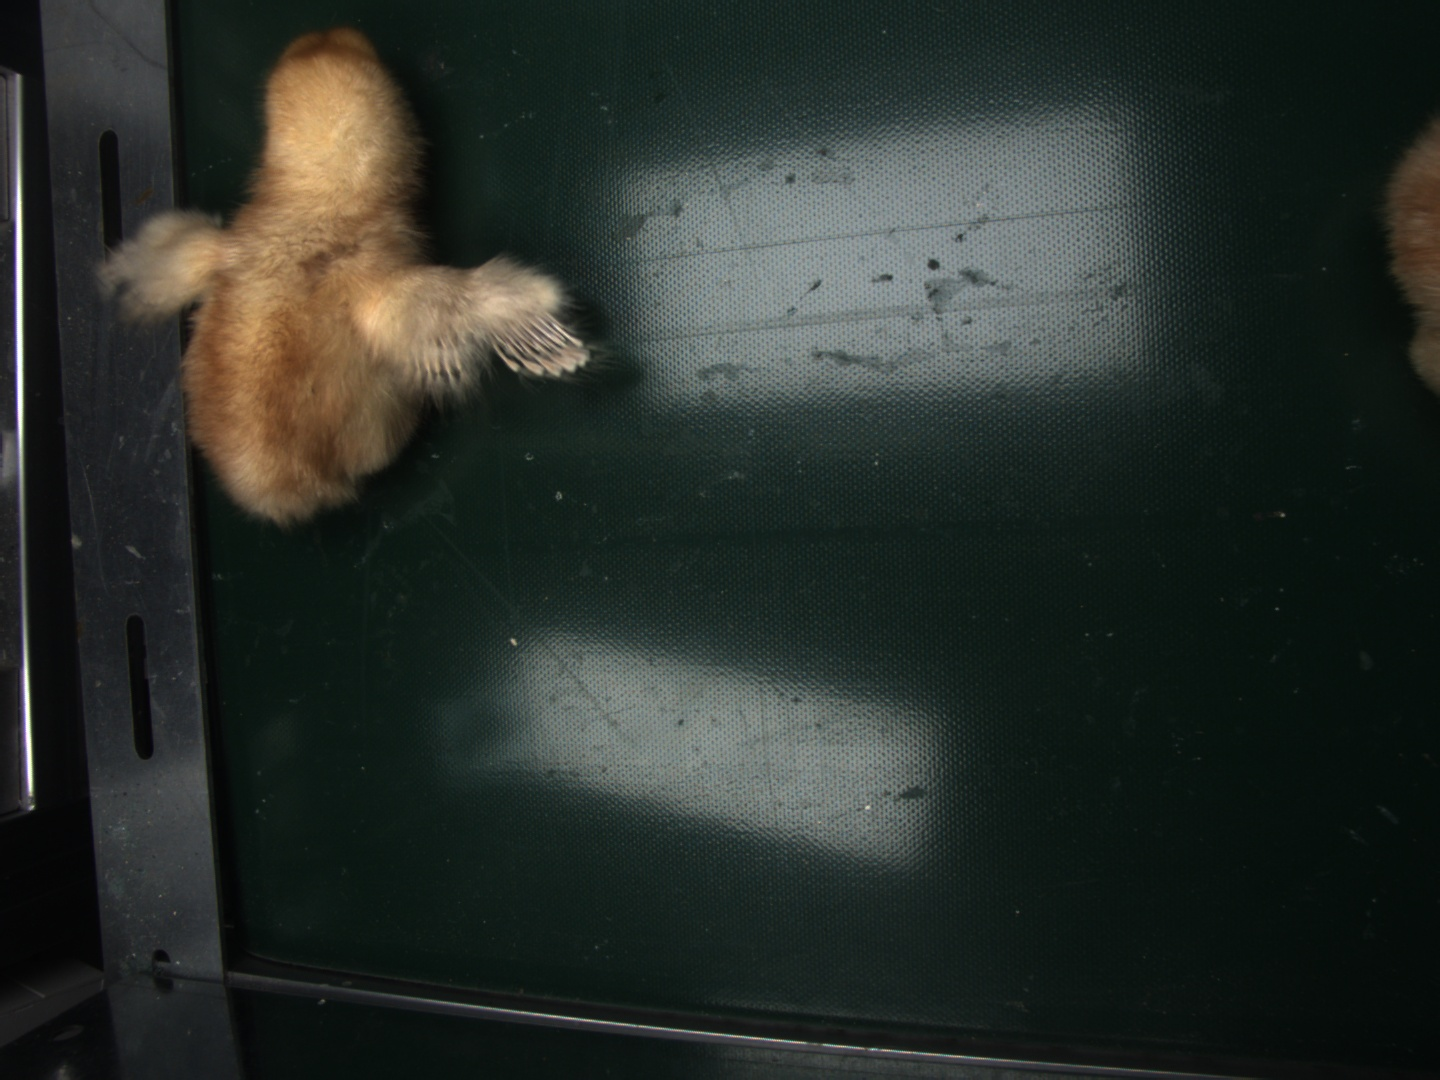female: (495, 314, 591, 379)
